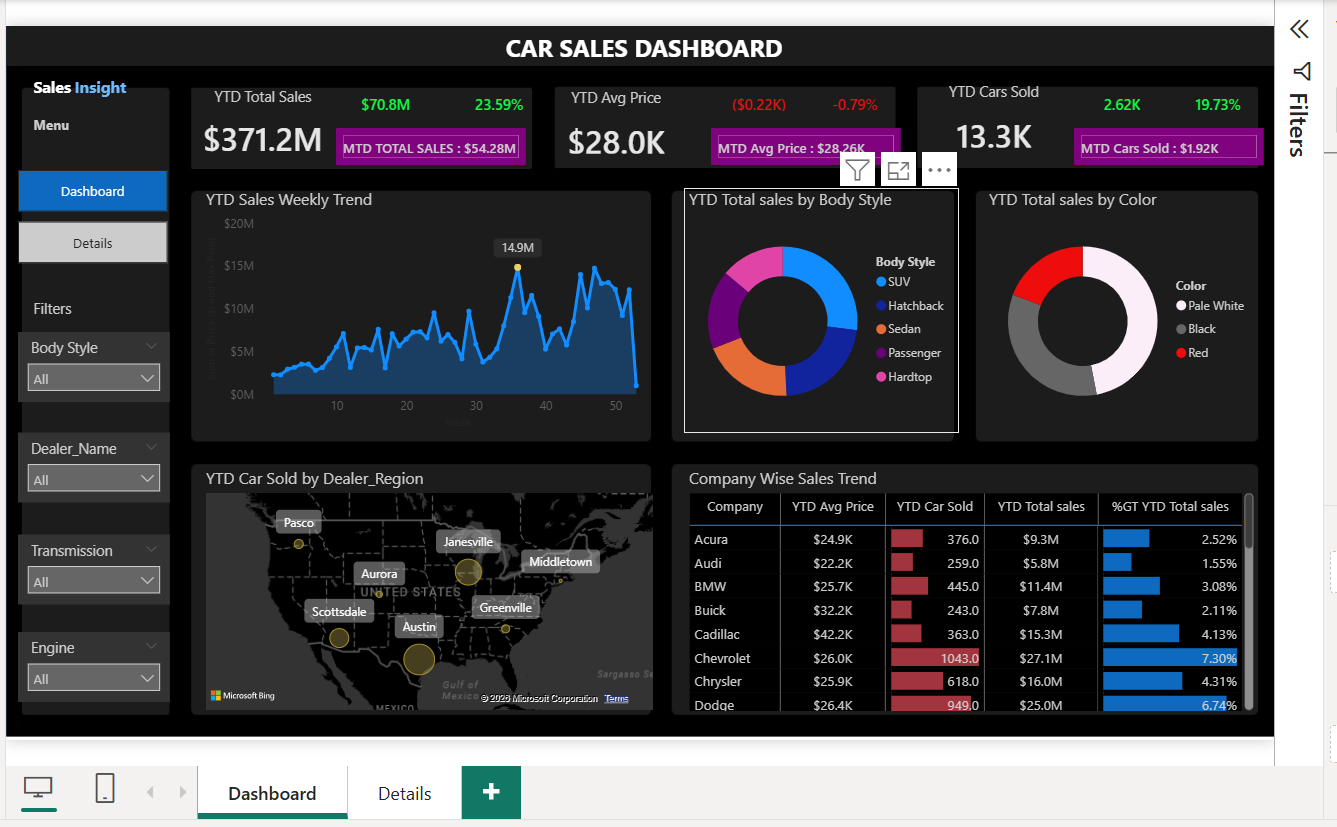

The page's visual inventory and layout, read from the dashboard file:
{"tool":"powerbi","page":{"name":"Dashboard","canvas":[1280,720],"ordinal":0},"visuals":[{"type":"cardVisual","title":"YTD Total Sales","fields":{"Data":["car_data.YTD Total sales"]},"box":[165,61.2,188.8,83.8],"z":0},{"type":"cardVisual","fields":{"Data":["car_data.Sales Difference"]},"box":[332.9,52.9,100,50],"z":1000},{"type":"cardVisual","fields":{"Data":["car_data.YOY Sales Growth"]},"box":[452.9,52.9,90,50],"z":2000},{"type":"cardVisual","fields":{"Data":["car_data.MTD KPI"]},"box":[332.9,102.9,191,37],"z":3000},{"type":"cardVisual","title":"YTD Avg Price","fields":{"Data":["car_data.YTD Avg Price"]},"box":[521.4,61.4,190,84.3],"z":4000},{"type":"cardVisual","fields":{"Data":["car_data.Avg Price Diff"]},"box":[711.4,52.9,97.1,50],"z":5000},{"type":"cardVisual","fields":{"Data":["car_data.YOY Avg Price Growth"]},"box":[808.6,52.9,97.1,50],"z":6000},{"type":"cardVisual","fields":{"Data":["car_data.MTD Avg Price KPI"]},"box":[711.4,102.9,191.4,37.1],"z":7000},{"type":"cardVisual","title":"YTD Cars Sold","fields":{"Data":["car_data.YTD Car Sold"]},"box":[902.9,55.7,190,84.3],"z":8000},{"type":"cardVisual","fields":{"Data":["car_data.Cars Sold Diff"]},"box":[1078.6,52.9,97.1,50],"z":9000},{"type":"cardVisual","fields":{"Data":["car_data.YOY Cars Sold Growth"]},"box":[1175.7,52.9,97.1,50],"z":10000},{"type":"cardVisual","fields":{"Data":["car_data.MTD Cars Sold KPI"]},"box":[1078.6,102.9,191.4,37.1],"z":11000},{"type":"areaChart","title":"YTD Sales Weekly Trend","fields":{"Category":["Calendar Table.Week"],"Y":["Sum(car_data.Price ($))","car_data.Max Point"]},"box":[196.9,164.1,461.1,247],"z":12000},{"type":"donutChart","fields":{"Category":["car_data.Body Style"],"Y":["car_data.YTD Total sales"]},"box":[684.6,164.1,276.6,247],"z":13000},{"type":"donutChart","fields":{"Y":["car_data.YTD Total sales"],"Category":["car_data.Color"]},"box":[987.8,164.1,276.6,247],"z":14000},{"type":"map","fields":{"Category":["car_data.Dealer_Region"],"Size":["car_data.YTD Car Sold"]},"box":[196.9,445.5,461.1,250.1],"z":15000},{"type":"tableEx","title":"Company Wise Sales Trend","fields":{"Values":["car_data.Company","car_data.YTD Avg Price","car_data.YTD Car Sold","car_data.YTD Total sales","Divide(car_data.YTD Total sales, ScopedEval(car_data.YTD Total sales, []))"]},"box":[684.6,445.5,579.9,250.1],"z":16000},{"type":"textbox","box":[382.9,0,528.6,45.7],"z":17000},{"type":"slicer","fields":{"Values":["car_data.Body Style"]},"box":[12.5,309.5,153.2,70.3],"z":18000},{"type":"slicer","fields":{"Values":["car_data.Dealer_Name"]},"box":[12.5,411.1,153.2,70.3],"z":19000},{"type":"slicer","fields":{"Values":["car_data.Transmission"]},"box":[12.5,512.7,153.2,70.3],"z":20000},{"type":"slicer","fields":{"Values":["car_data.Engine"]},"box":[12.5,611.1,153.2,70.3],"z":21000},{"type":"textbox","box":[23.4,268.8,117.2,37.5],"z":22000},{"type":"textbox","box":[22.9,45.7,127.1,32.9],"z":23000},{"type":"textbox","box":[22.9,84.3,81.4,40],"z":24000},{"type":"pageNavigator","box":[11.4,145.7,151.4,94.3],"z":25000}]}

Visuals, with their boxes on the page's 1280x720 design canvas (x1, y1, x2, y2). These are canvas units, not pixel positions in the 1337x827 screenshot, which may show the page scaled, cropped or inside an application window:
"YTD Total Sales" cardVisual: <region>165, 61, 354, 145</region>
cardVisual - car_data.Sales Difference: <region>333, 53, 433, 103</region>
cardVisual - car_data.YOY Sales Growth: <region>453, 53, 543, 103</region>
cardVisual - car_data.MTD KPI: <region>333, 103, 524, 140</region>
"YTD Avg Price" cardVisual: <region>521, 61, 711, 146</region>
cardVisual - car_data.Avg Price Diff: <region>711, 53, 808, 103</region>
cardVisual - car_data.YOY Avg Price Growth: <region>809, 53, 906, 103</region>
cardVisual - car_data.MTD Avg Price KPI: <region>711, 103, 903, 140</region>
"YTD Cars Sold" cardVisual: <region>903, 56, 1093, 140</region>
cardVisual - car_data.Cars Sold Diff: <region>1079, 53, 1176, 103</region>
cardVisual - car_data.YOY Cars Sold Growth: <region>1176, 53, 1273, 103</region>
cardVisual - car_data.MTD Cars Sold KPI: <region>1079, 103, 1270, 140</region>
"YTD Sales Weekly Trend" areaChart: <region>197, 164, 658, 411</region>
donutChart - car_data.Body Style x car_data.YTD Total sales: <region>685, 164, 961, 411</region>
donutChart - car_data.YTD Total sales x car_data.Color: <region>988, 164, 1264, 411</region>
map - car_data.Dealer_Region x car_data.YTD Car Sold: <region>197, 446, 658, 696</region>
"Company Wise Sales Trend" tableEx: <region>685, 446, 1264, 696</region>
textbox: <region>383, 0, 912, 46</region>
slicer - car_data.Body Style: <region>12, 310, 166, 380</region>
slicer - car_data.Dealer_Name: <region>12, 411, 166, 481</region>
slicer - car_data.Transmission: <region>12, 513, 166, 583</region>
slicer - car_data.Engine: <region>12, 611, 166, 681</region>
textbox: <region>23, 269, 141, 306</region>
textbox: <region>23, 46, 150, 79</region>
textbox: <region>23, 84, 104, 124</region>
pageNavigator: <region>11, 146, 163, 240</region>
